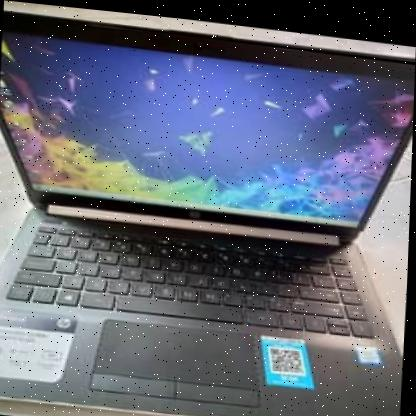Normal: (0, 11, 415, 229)
